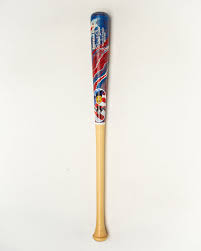bat: (89, 10, 111, 242)
